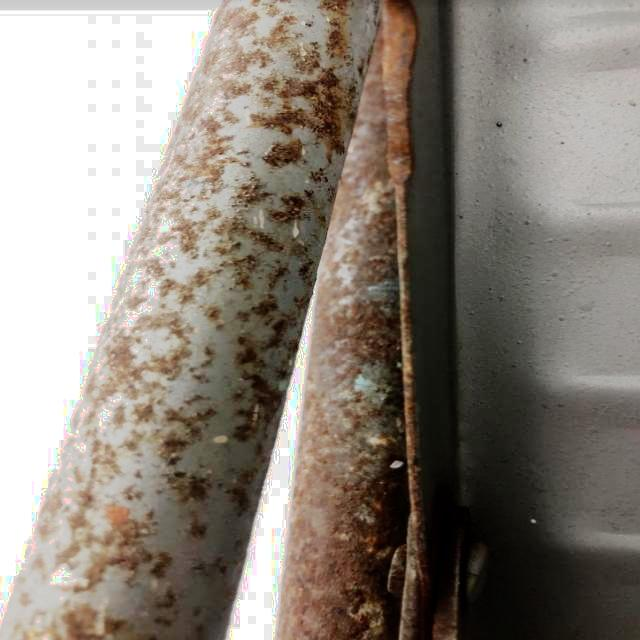Corrosion: (0, 0, 460, 640)
